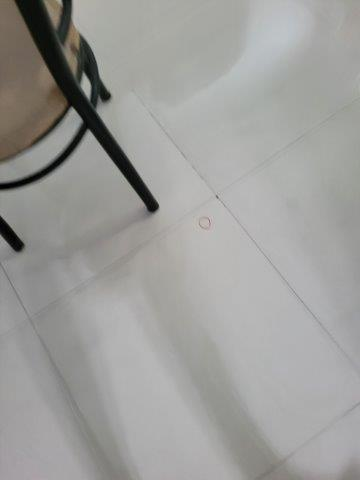karet: (198, 216, 212, 231)
